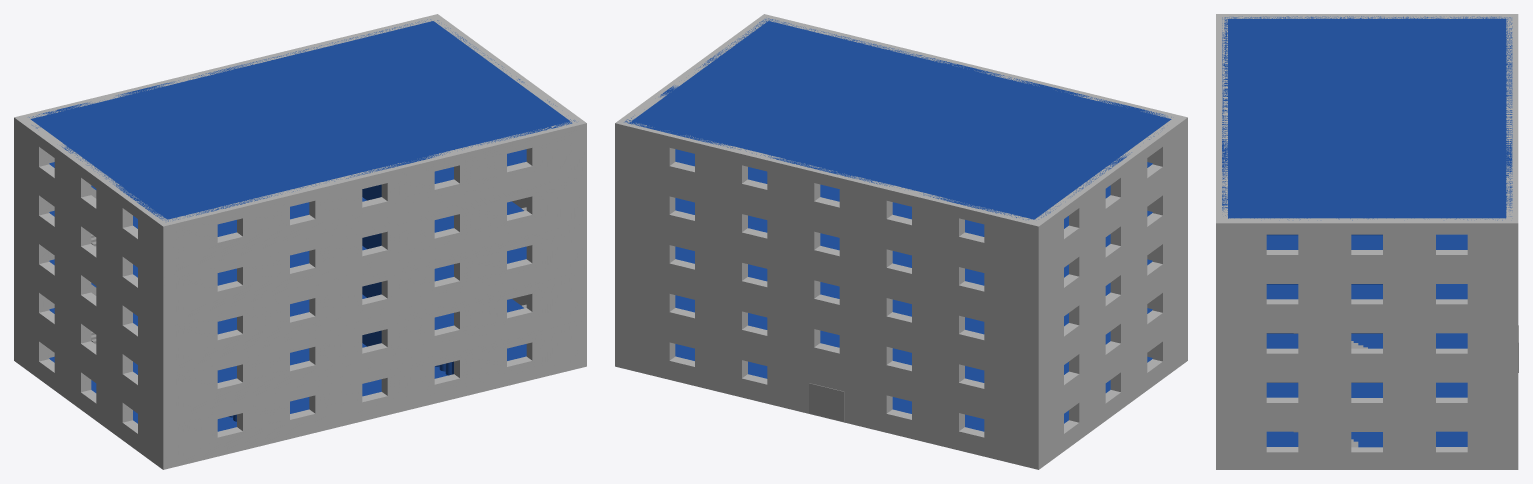
The picture shows the model from 3 angles, left to right: view 1: azimuth 30°, elevation 25°; view 2: azimuth 150°, elevation 25°; view 3: azimuth 270°, elevation 25°; orthographic projection.
Parts seen in each view (by area): view 1: pPlane2, pCube29, pCube22, pCube27, pCube25, pCube12, Wall29, Wall22, Wall25, Wall27, Wall23, pCube28 (+6 smaller); view 2: pPlane2, pCube28, pCube24, pCube26, pCube23, pCube18, Wall29, Wall22, Wall25, Wall23, Wall27, Floor7 (×2) (+7 smaller); view 3: pPlane2, Wall30, Wall21, Wall24, Wall26, Wall28, pCube28, Floor7 (×2), pCube29, Wall29, Floor2, pPlane1 (+8 smaller).
Part boxes in pixels (bbox=[...]): pPlane2: bbox=[29, 19, 575, 221]; pCube29: bbox=[157, 119, 586, 274]; pCube22: bbox=[157, 269, 586, 421]; pCube27: bbox=[157, 172, 586, 323]; pCube25: bbox=[157, 220, 586, 372]; pCube12: bbox=[157, 318, 586, 469]; Wall29: bbox=[14, 115, 173, 275]; Wall22: bbox=[14, 312, 173, 469]; Wall25: bbox=[14, 215, 173, 372]; Wall27: bbox=[14, 166, 173, 323]; Wall23: bbox=[14, 263, 173, 420]; pCube28: bbox=[14, 14, 443, 166]; pPlane2: bbox=[624, 18, 1171, 219]; pCube28: bbox=[615, 119, 1044, 274]; pCube24: bbox=[615, 220, 1044, 371]; pCube26: bbox=[615, 172, 1044, 323]; pCube23: bbox=[615, 269, 1044, 420]; pCube18: bbox=[615, 318, 1044, 469]; Wall29: bbox=[1028, 115, 1187, 275]; Wall22: bbox=[1028, 312, 1187, 469]; Wall25: bbox=[1028, 215, 1187, 372]; Wall23: bbox=[1028, 263, 1187, 421]; Wall27: bbox=[1028, 166, 1187, 323]; Floor7 (×2): bbox=[675, 149, 1152, 285]; pPlane2: bbox=[1222, 16, 1512, 220]; Wall30: bbox=[1216, 218, 1518, 272]; Wall21: bbox=[1216, 420, 1518, 469]; Wall24: bbox=[1216, 371, 1518, 420]; Wall26: bbox=[1216, 322, 1518, 371]; Wall28: bbox=[1216, 272, 1518, 321]; pCube28: bbox=[1506, 14, 1518, 272]; Floor7 (×2): bbox=[1266, 234, 1467, 299]; pCube29: bbox=[1216, 14, 1227, 272]; Wall29: bbox=[1216, 14, 1518, 18]; Floor2: bbox=[1266, 382, 1467, 397]; pPlane1: bbox=[1266, 431, 1467, 447].
Size of the model in its own units: 41 by 22.51 by 25.05.
